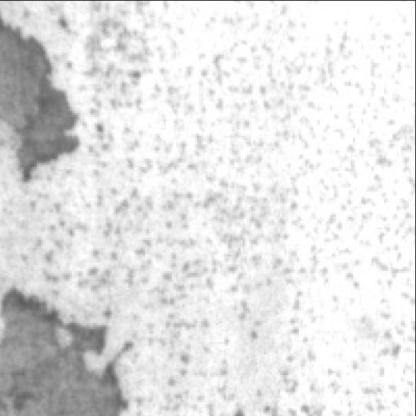patches: (3, 281, 140, 414), (4, 15, 83, 179)
pitted_surface: (96, 22, 416, 414)
